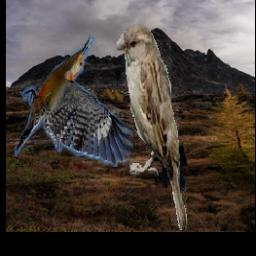Sparrow: (117, 21, 187, 230)
Woodpecker: (15, 35, 133, 167)
